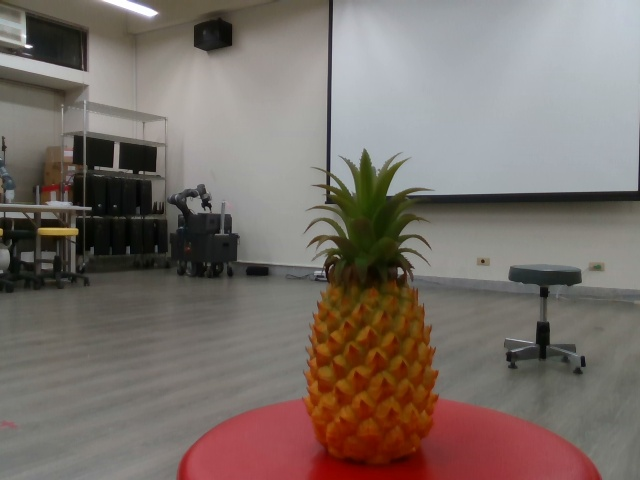pineapple: (300, 144, 442, 466)
